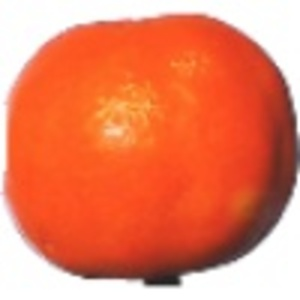tangerina: (1, 12, 300, 286)
